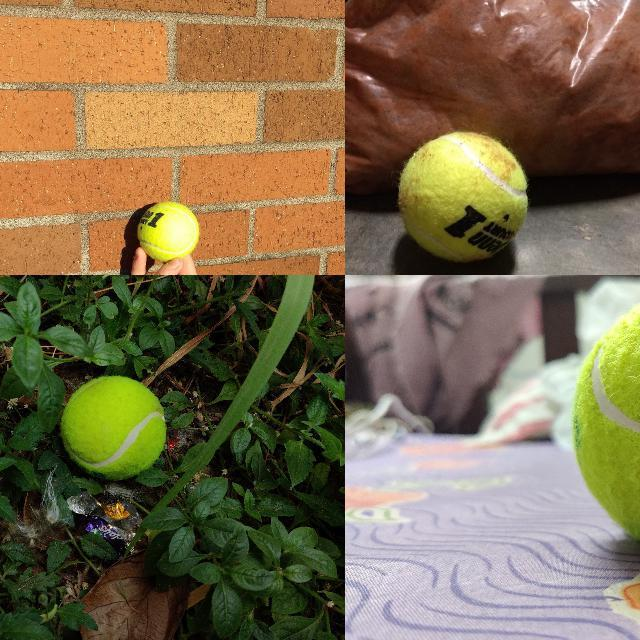tennis-ball: (571, 287, 639, 552), (396, 131, 528, 262), (61, 376, 165, 479), (137, 202, 200, 263)
